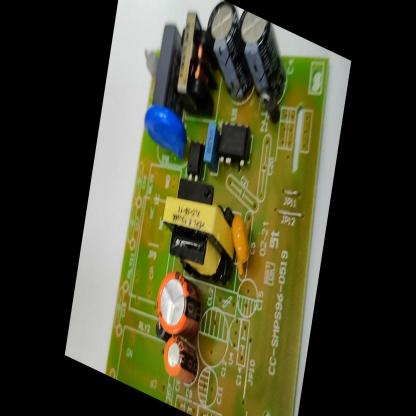Cap1: (151, 261, 208, 348)
Cap2: (158, 328, 204, 388)
Cap3: (205, 0, 245, 98)
Cap4: (230, 9, 296, 115)
MOSFET: (215, 110, 254, 180)
Mov: (139, 96, 193, 167)
Resistor: (141, 38, 161, 81)
Transformer: (156, 175, 241, 292), (173, 6, 213, 111)
